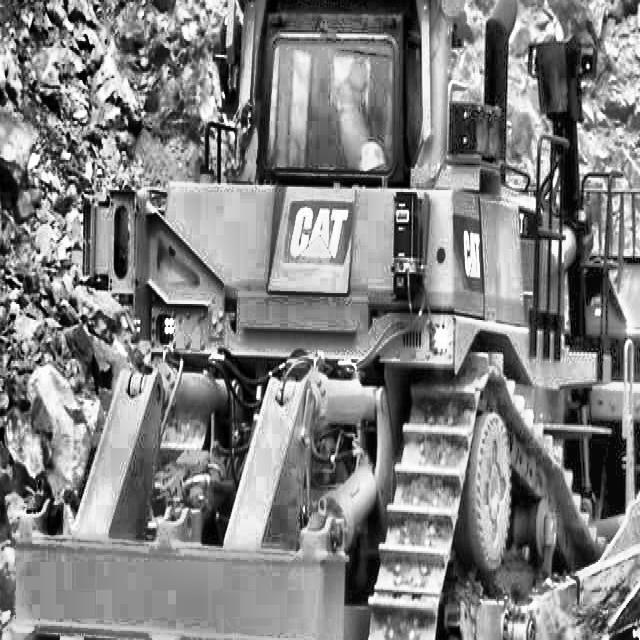buldozerpayloadergrader: (166, 0, 640, 640)
dump_truck: (0, 197, 301, 640)
